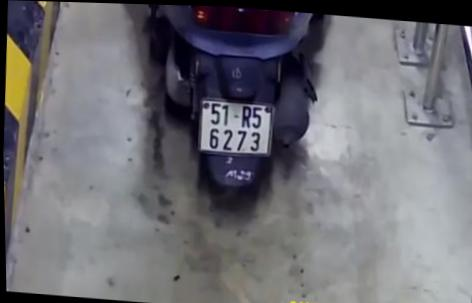LP: (194, 93, 274, 158)
